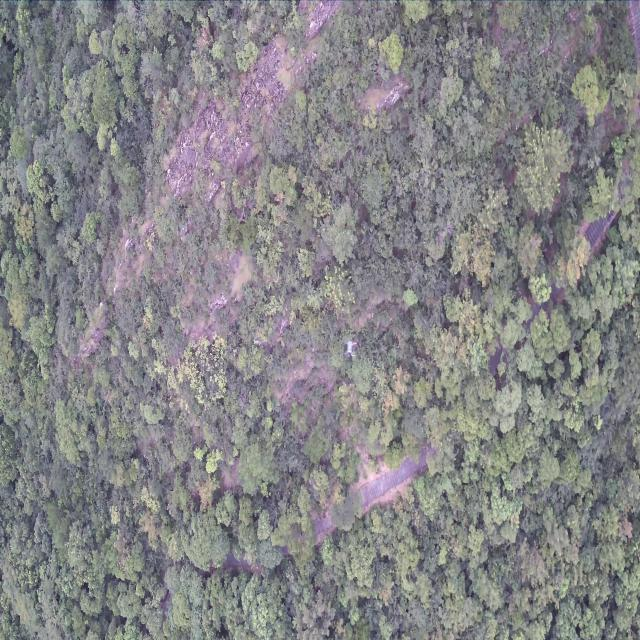UAV: (342, 339, 357, 358)
